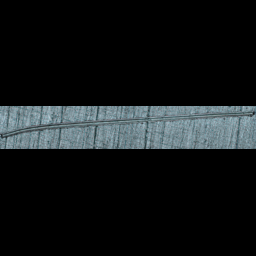d: (0, 110, 255, 141)
